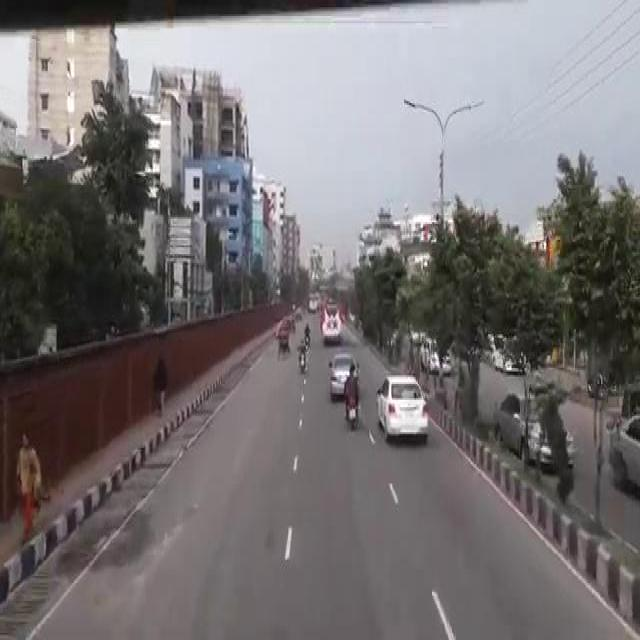BUS: (322, 300, 344, 342)
MOTORCYCLE: (347, 387, 358, 430), (298, 352, 308, 374)
